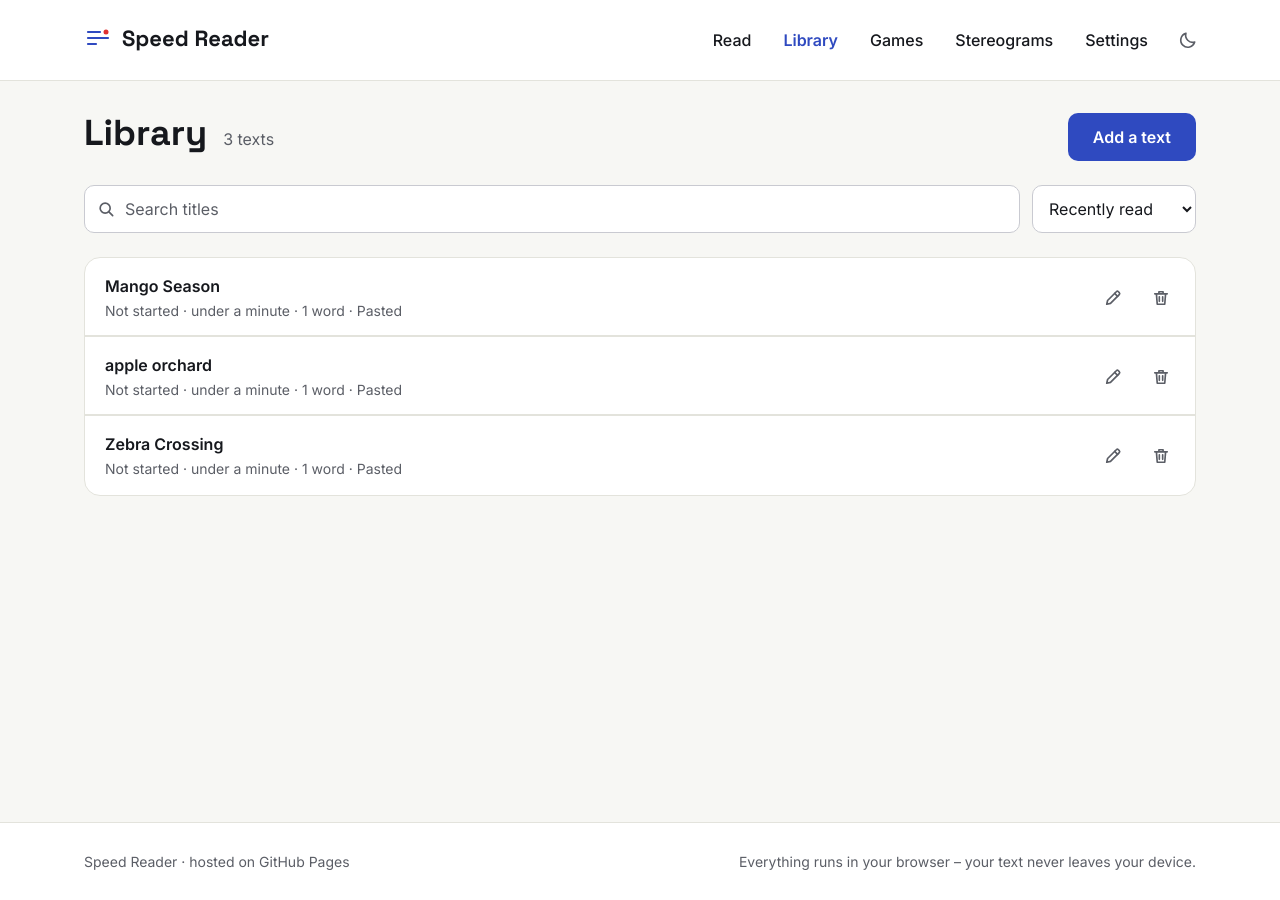
Test case: library › filters by title and sorts
Expected: the text "3 texts" is shown, [223,127,274,151]
Select "Title" in the dropdown named "Sort by": (1114, 209) [1032,185,1196,233]
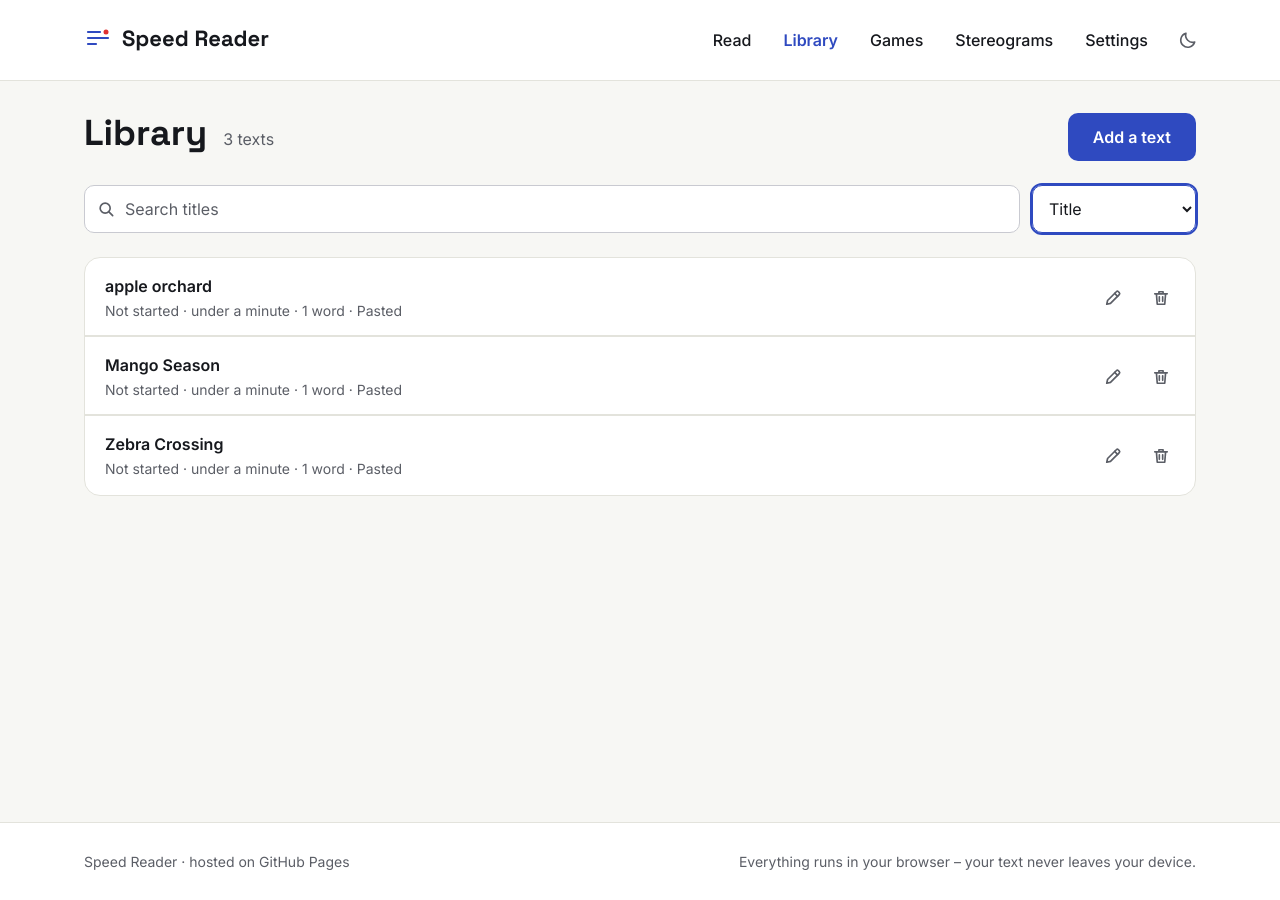
In the search field labelled "Search titles": (552, 209) [84,185,1020,233], type "SEAS"
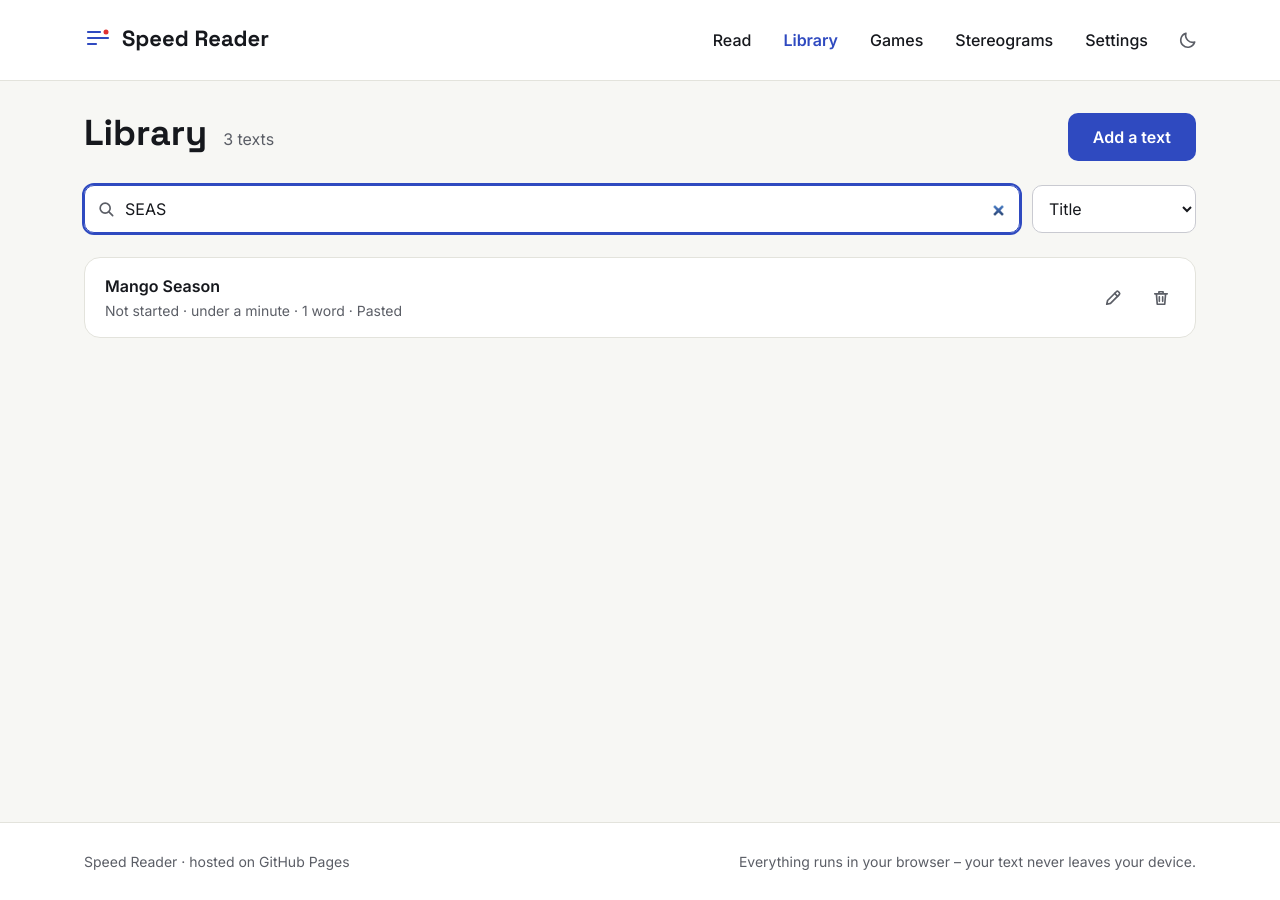
In the search field named "Search titles": (552, 209) [84,185,1020,233], type "xyz"
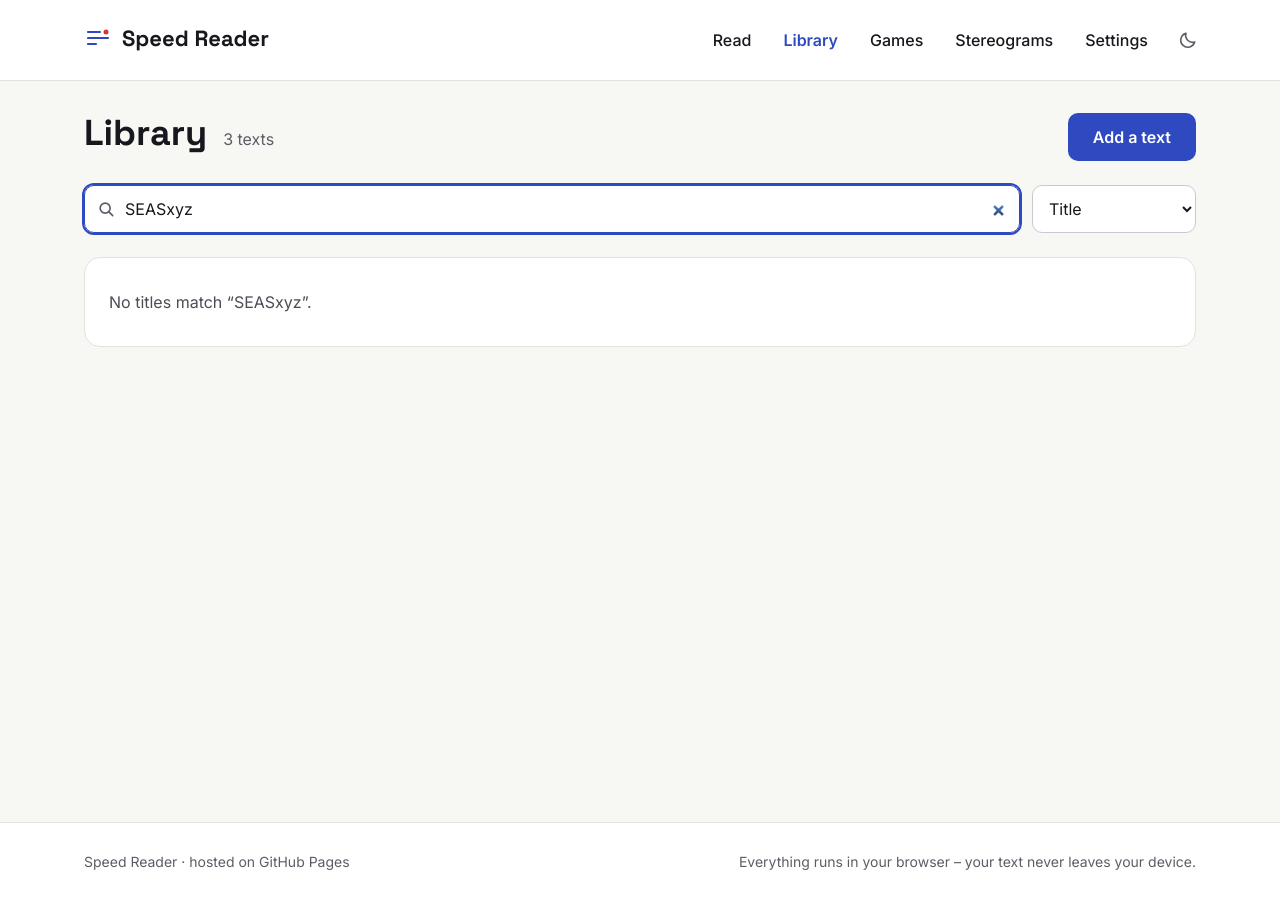
Expected: the text "No titles match “SEASxyz”." is shown, [84,257,1196,347]
